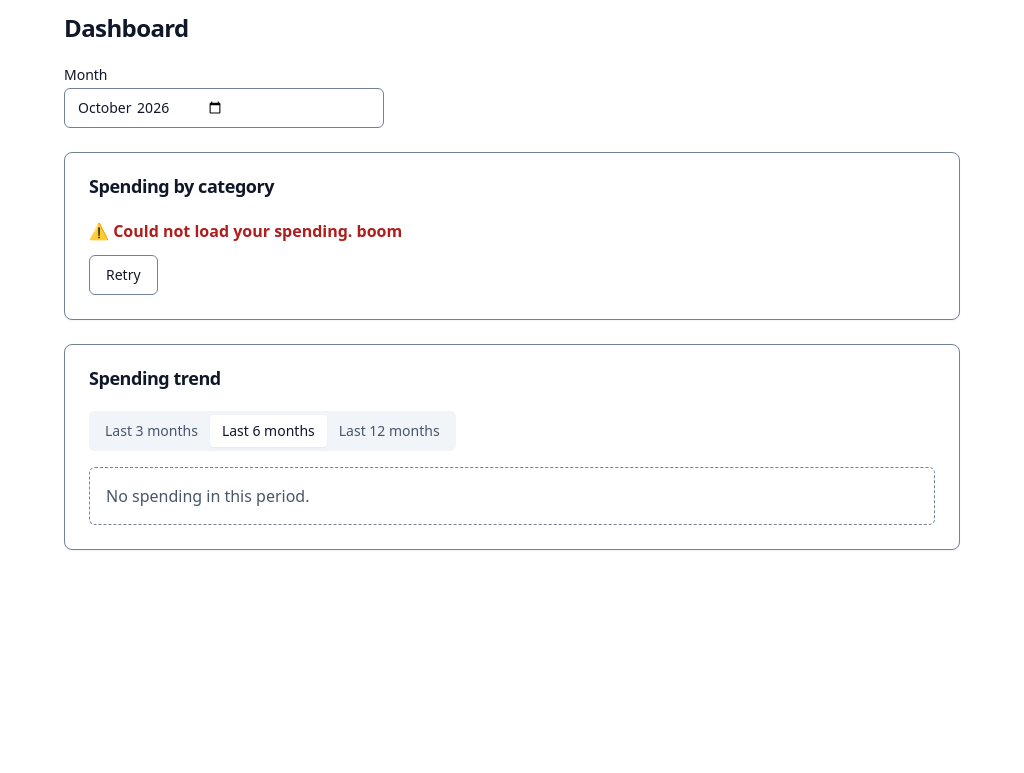
Test: DashboardPage › T-027 a failure shows an error message and Retry fetches again
The image size is (1024, 773).
Expected: the message shows "Could not load your spending", [113, 220, 357, 242]
Expected: the message shows "boom", [357, 220, 402, 242]
Click the button "Retry" at x=123, y=275, box [89, 255, 158, 295]
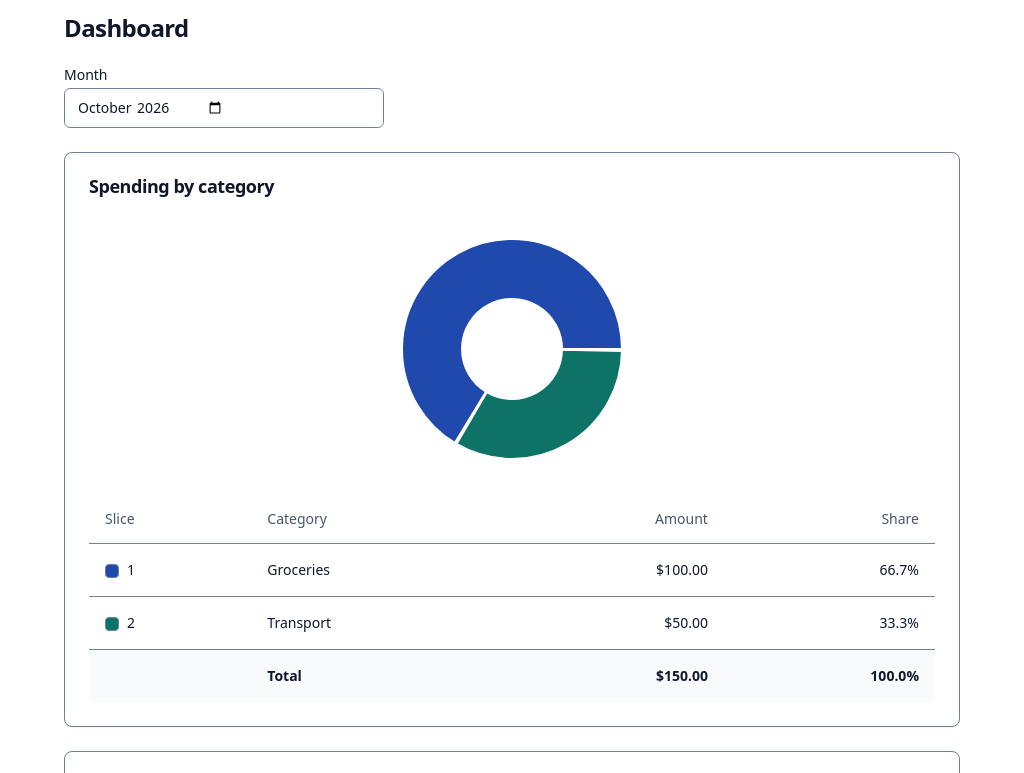
Now the column heading "Groceries" is shown, box [251, 544, 502, 596]
Now the message "⚠Could not load your spending. boom Retry" is gone
